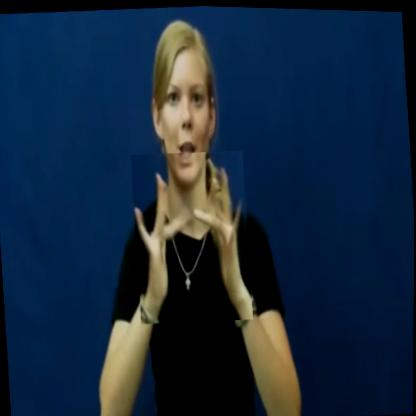Internet: (130, 147, 255, 325)
